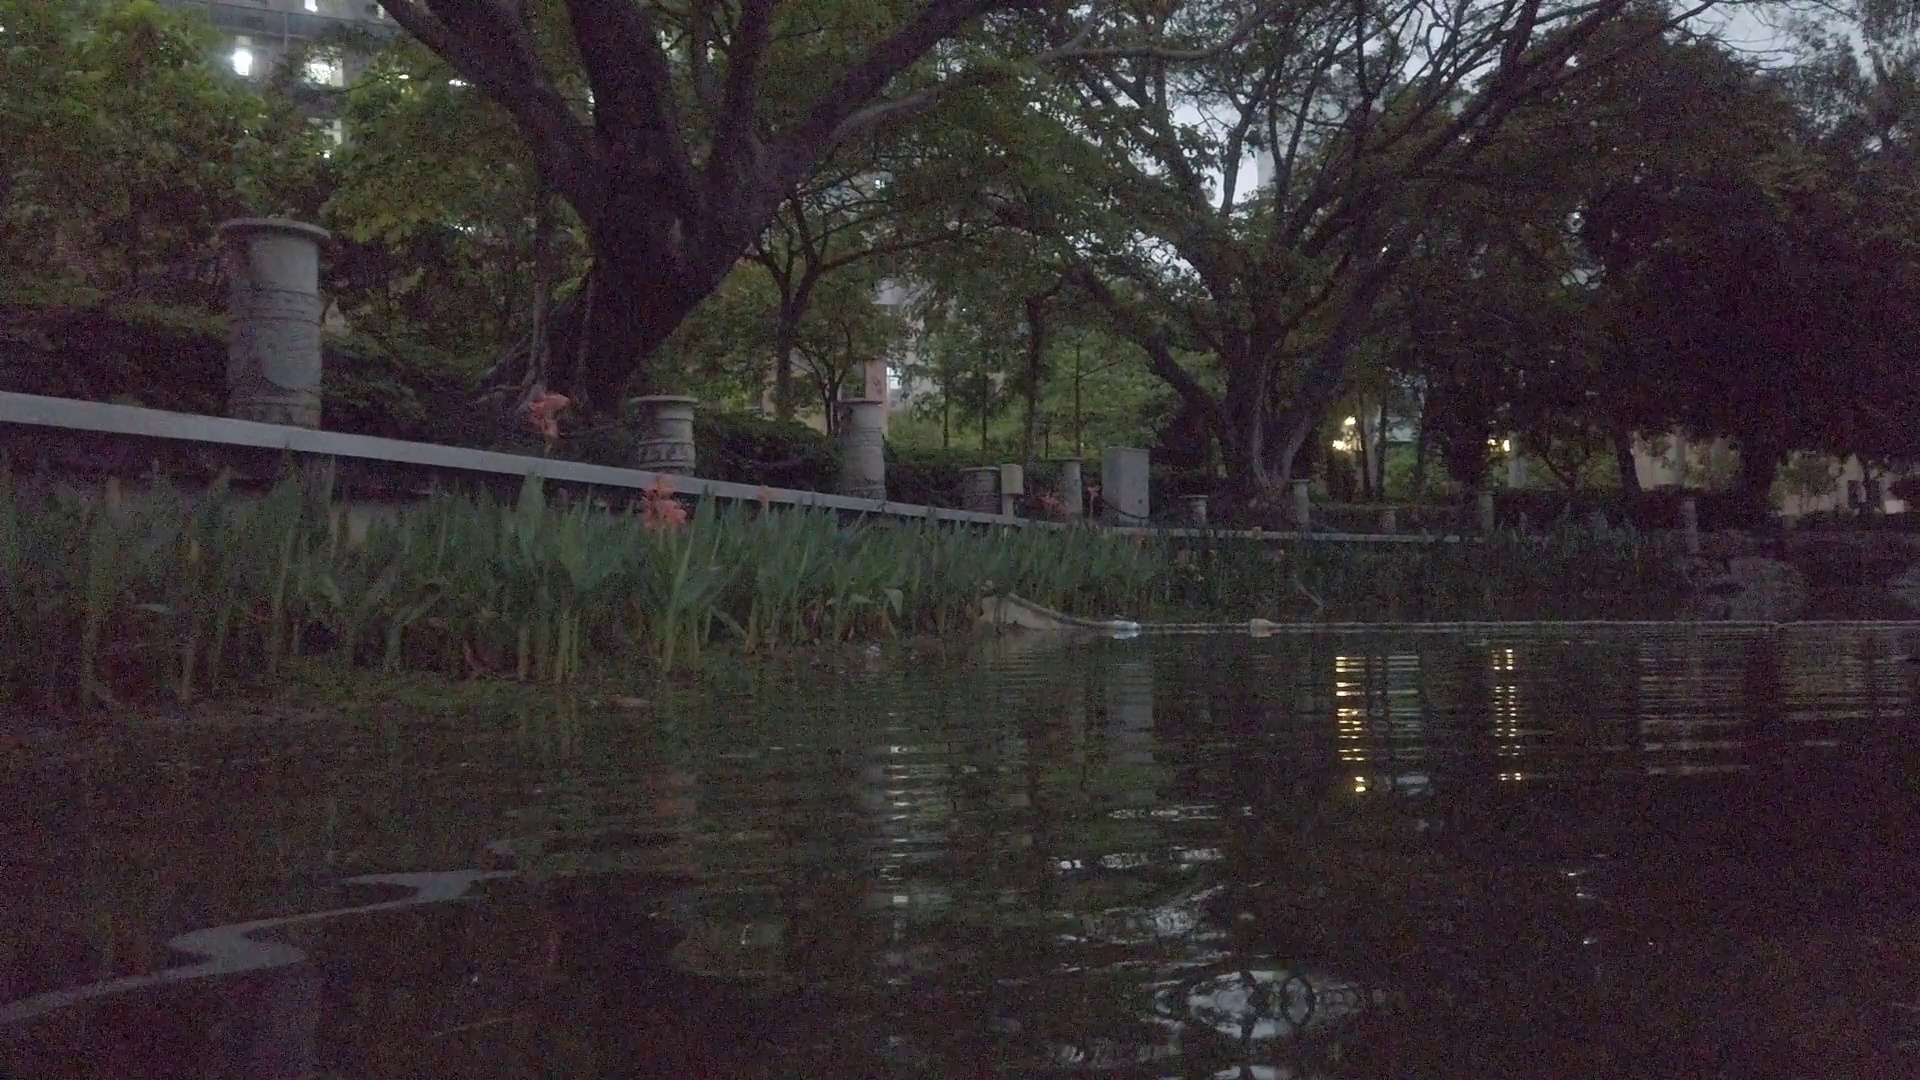bottle: (1250, 617, 1280, 632), (1112, 621, 1145, 633)
